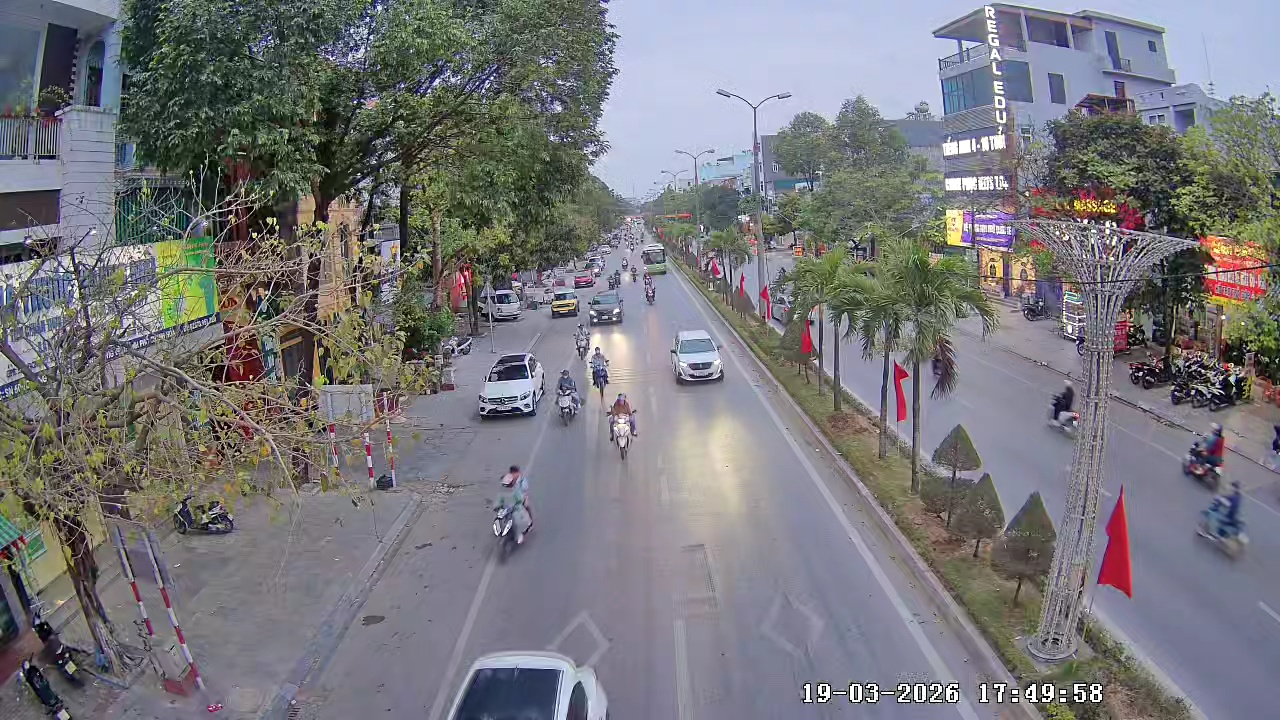bus: (637, 241, 670, 278)
car: (433, 646, 614, 719), (476, 352, 547, 419), (669, 327, 726, 385), (588, 290, 625, 323), (549, 288, 579, 318)
motorbike: (488, 463, 537, 564), (1194, 476, 1252, 561), (1180, 424, 1230, 487), (172, 493, 236, 535), (606, 392, 639, 461), (1046, 379, 1081, 436), (553, 370, 582, 427), (587, 343, 611, 394), (572, 318, 590, 359), (643, 275, 657, 305)
